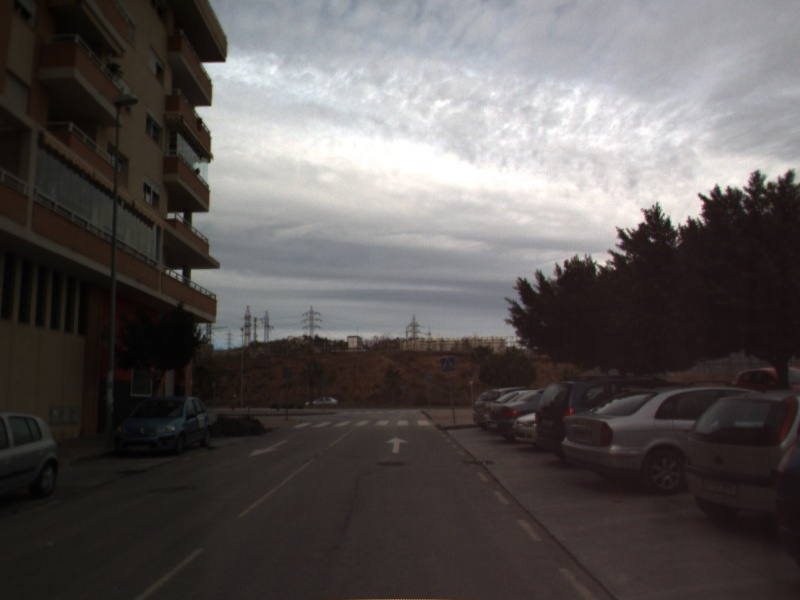STRAIGHT: (384, 434, 411, 455)
